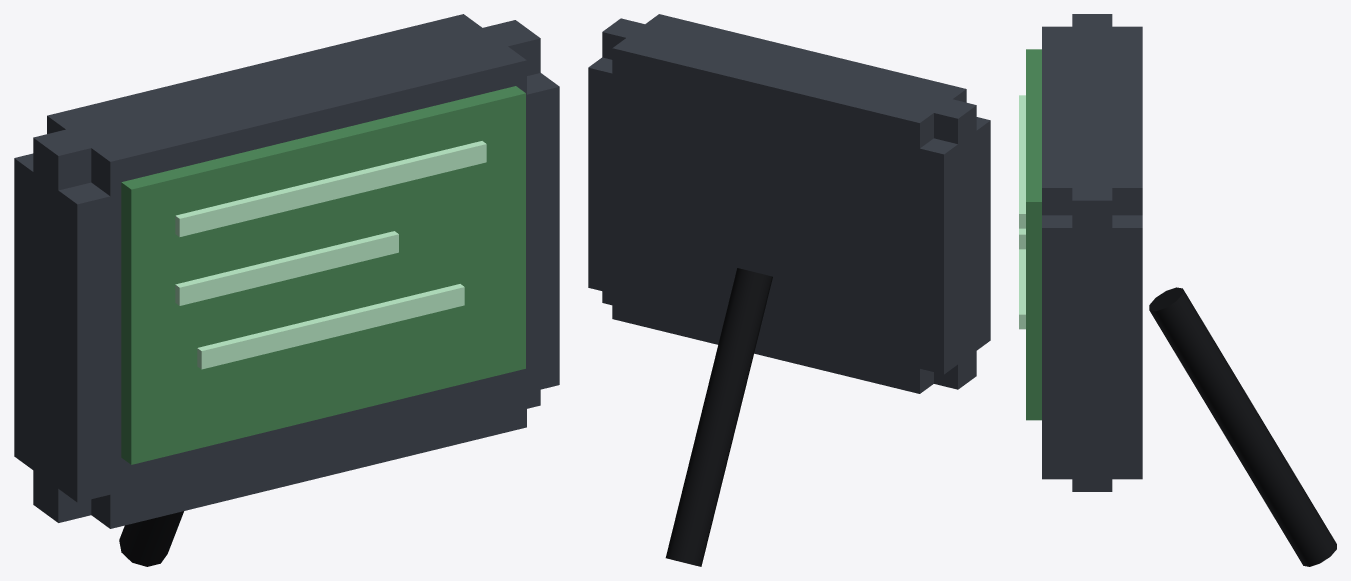
The model's file is kvi-man-02.glb.
3 views of the same model, side by side, from view 1: azimuth 30°, elevation 25°; view 2: azimuth 150°, elevation 25°; view 3: azimuth 270°, elevation 25° (orthographic). The views are drawn at different scales.
Parts seen in each view (by area): view 1: Display digital LCD; view 2: Display digital LCD; view 3: Display digital LCD.
Part boxes in pixels (bbox=[...]): Display digital LCD: bbox=[14, 14, 559, 566]; Display digital LCD: bbox=[588, 14, 990, 566]; Display digital LCD: bbox=[1019, 14, 1336, 566].
Size of the model in its own units: 0.8783 by 1 by 0.6319.
